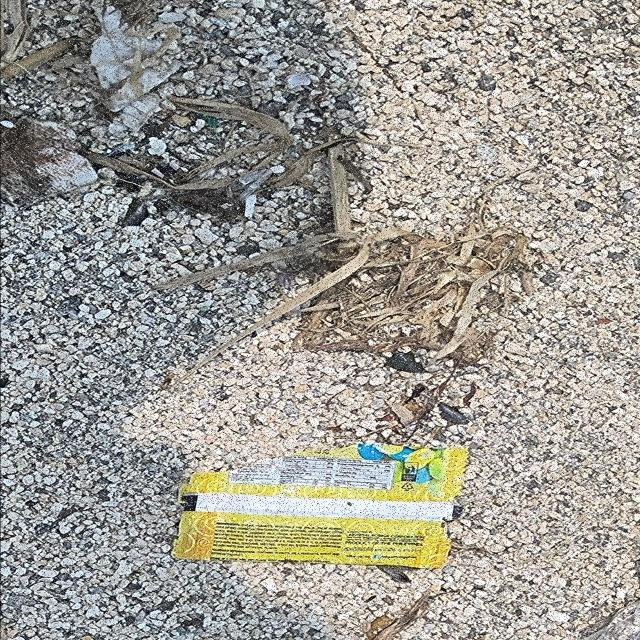plastic_waste: (169, 443, 472, 571)
